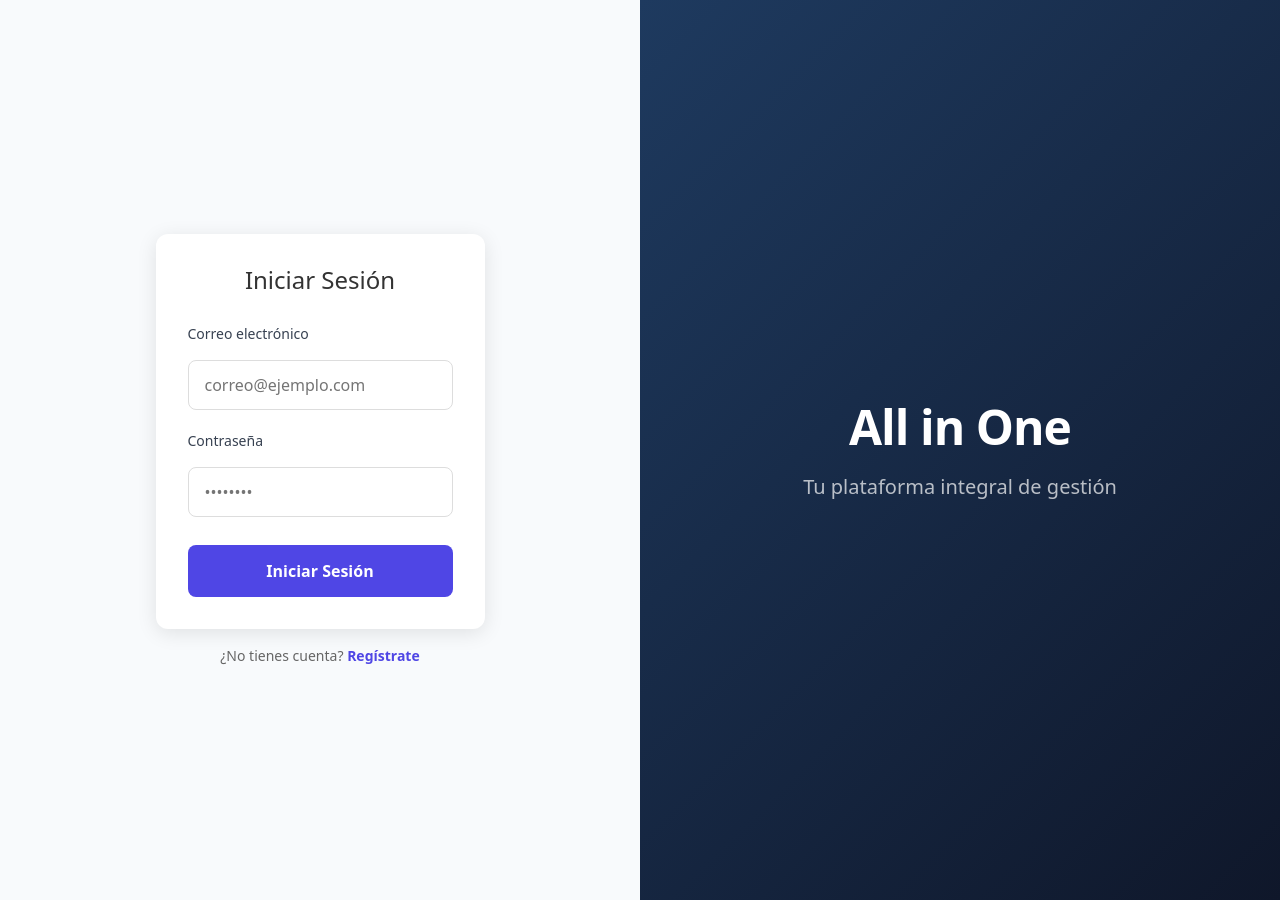
Test: App › should show register form when clicking Regístrate
Click the button "Regístrate" at point(383, 655), box [347,645,420,666]
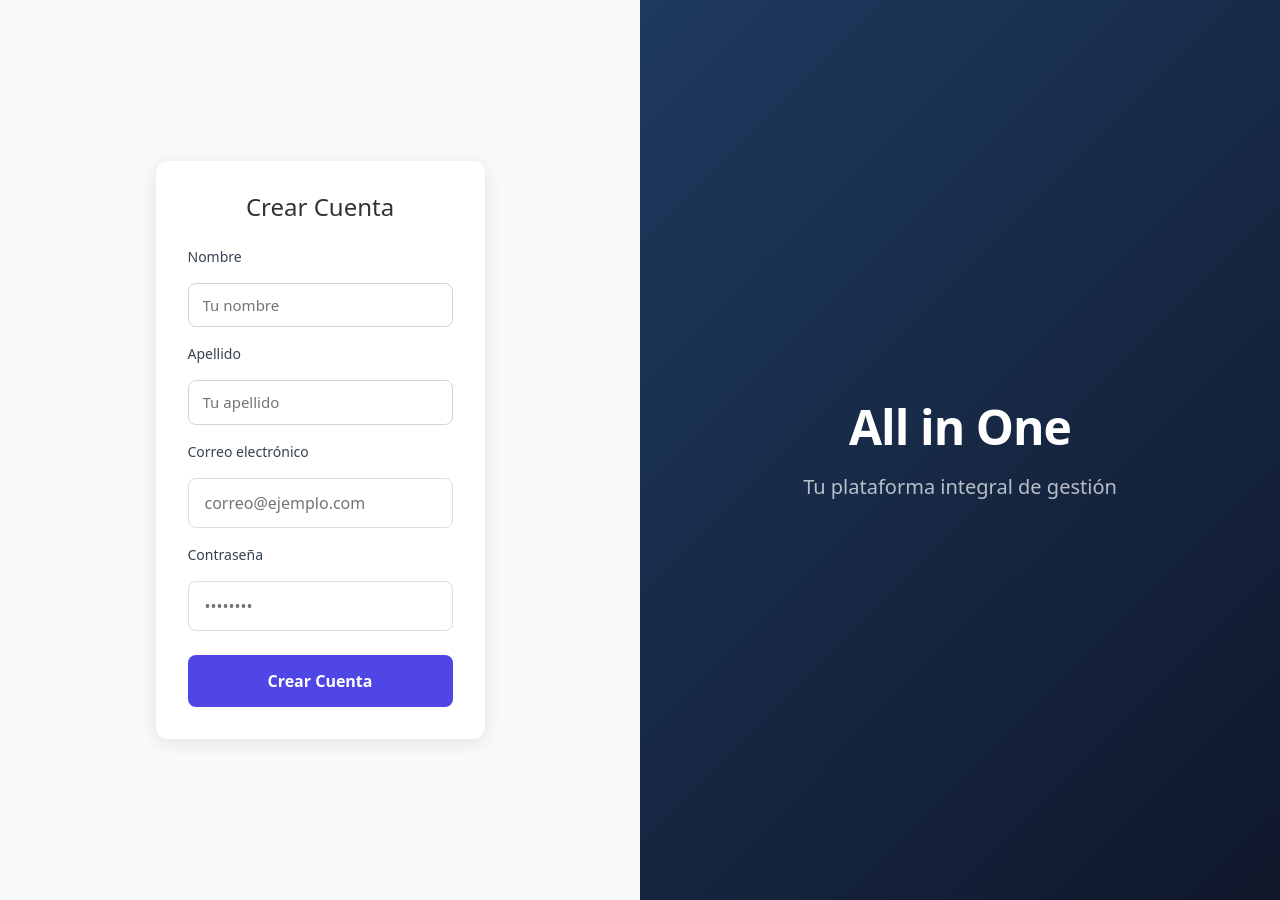
Expected: the heading "Crear Cuenta" is shown, [246,190,394,223]
